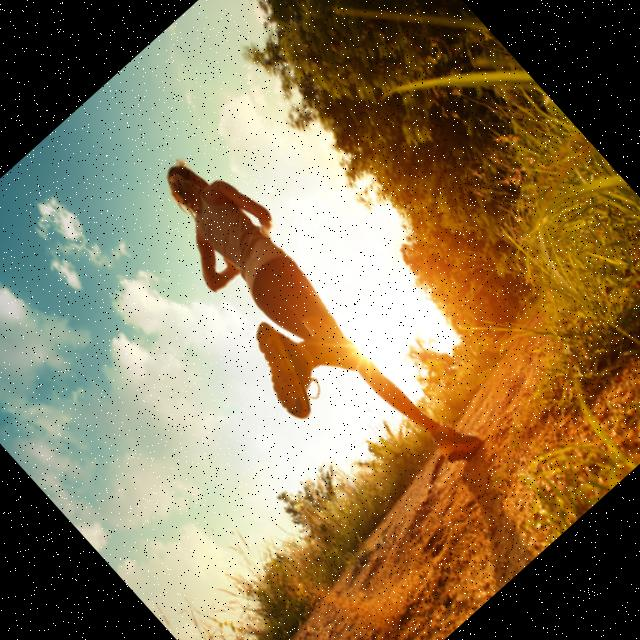Person: (112, 133, 484, 527)
